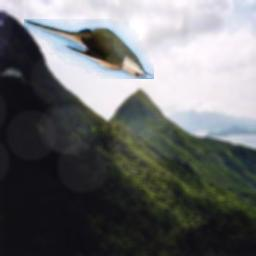Cuckoo: (24, 19, 154, 79)
